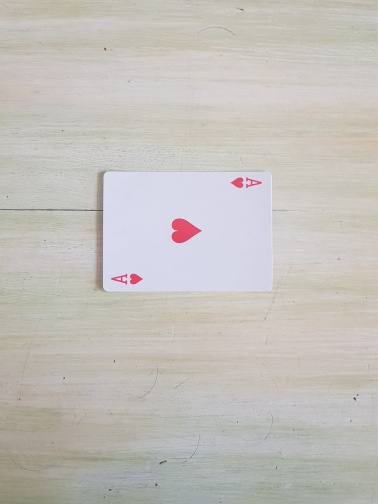ace: (102, 171, 273, 292)
